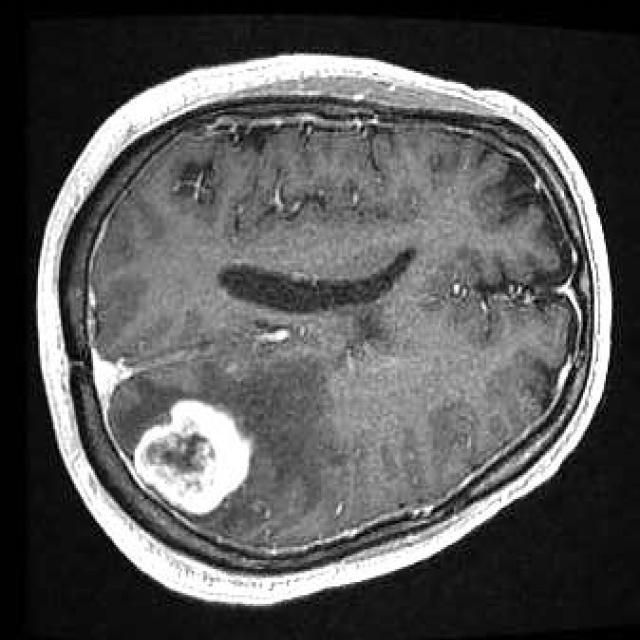tumor: (135, 395, 256, 518)
